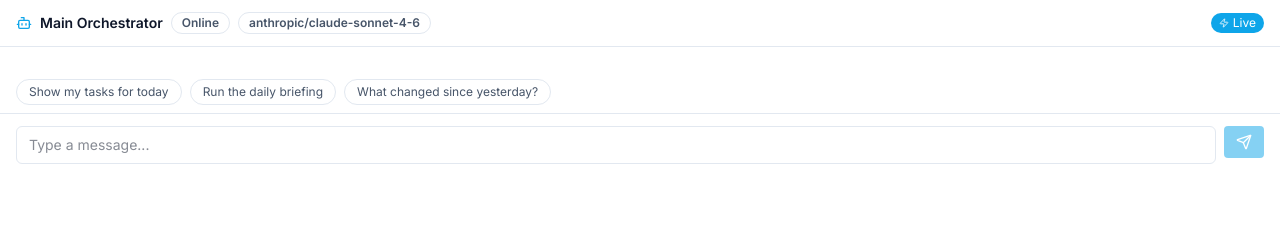
Test case: ChatView › shows typing indicator after sending
Type "Test message" into the field with test id "chat-input" at coordinates (616, 145), box left=16, top=126, right=1216, bottom=164
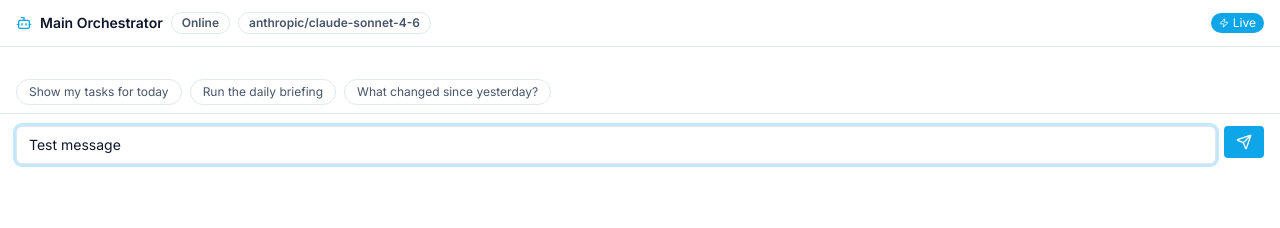
Press Enter
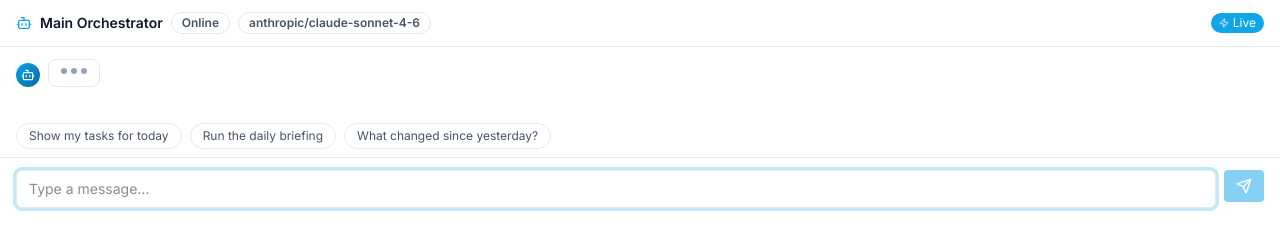
Check: the element with test id "typing-indicator" is shown, box left=16, top=59, right=100, bottom=87
